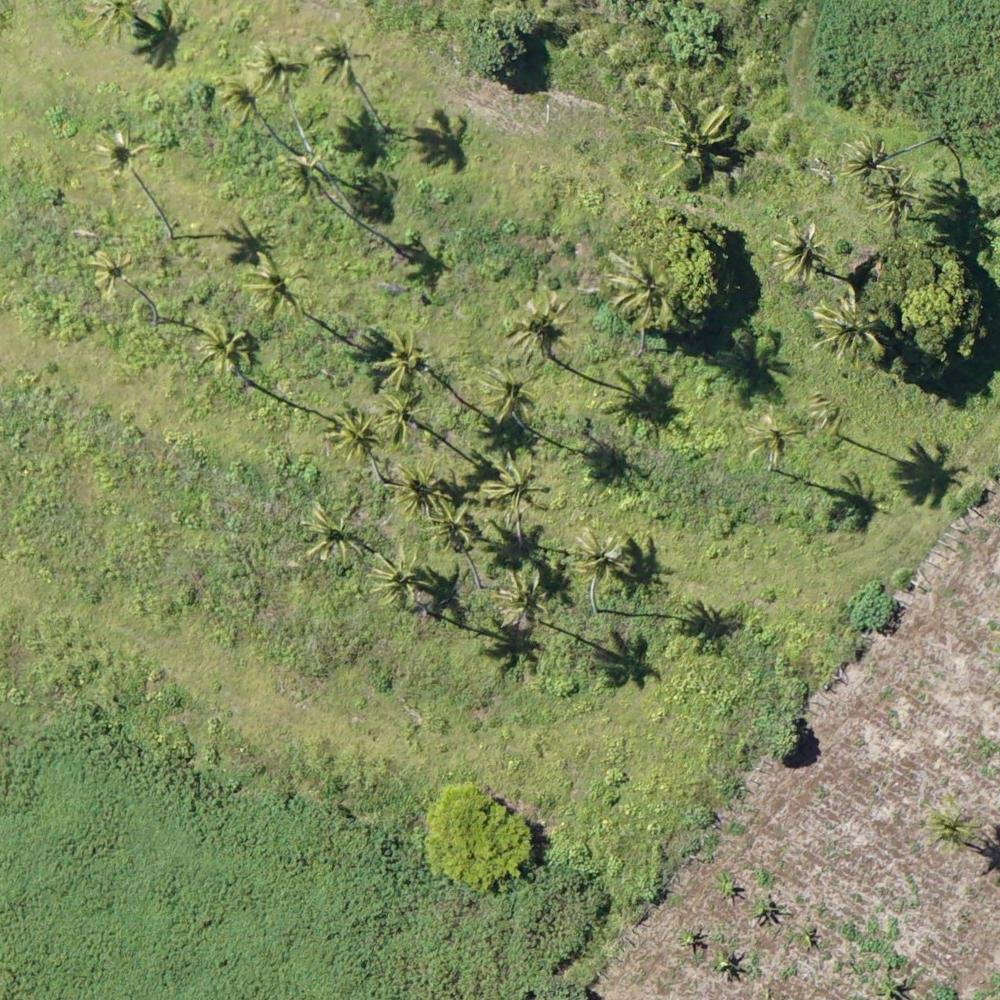Palm: (646, 102, 734, 185), (812, 289, 884, 369), (600, 254, 680, 325), (300, 496, 371, 568), (480, 449, 553, 512), (188, 314, 257, 380), (487, 567, 558, 631), (387, 456, 454, 522), (506, 295, 574, 359), (240, 249, 308, 313), (569, 524, 633, 588), (372, 544, 435, 608), (481, 365, 546, 425), (371, 327, 434, 386), (773, 224, 835, 283), (740, 413, 803, 471), (329, 406, 386, 466), (250, 38, 311, 93), (306, 27, 364, 84), (91, 128, 154, 180), (870, 169, 919, 231), (376, 392, 433, 445), (419, 496, 476, 548), (838, 133, 889, 191), (213, 71, 268, 124), (84, 247, 138, 299)
